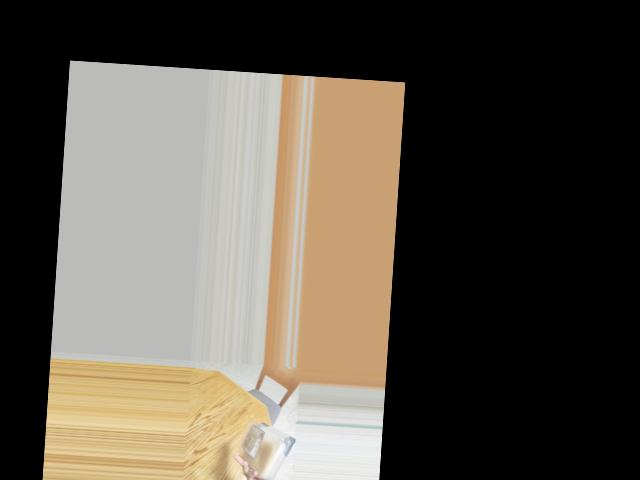cheese: (243, 420, 288, 480)
